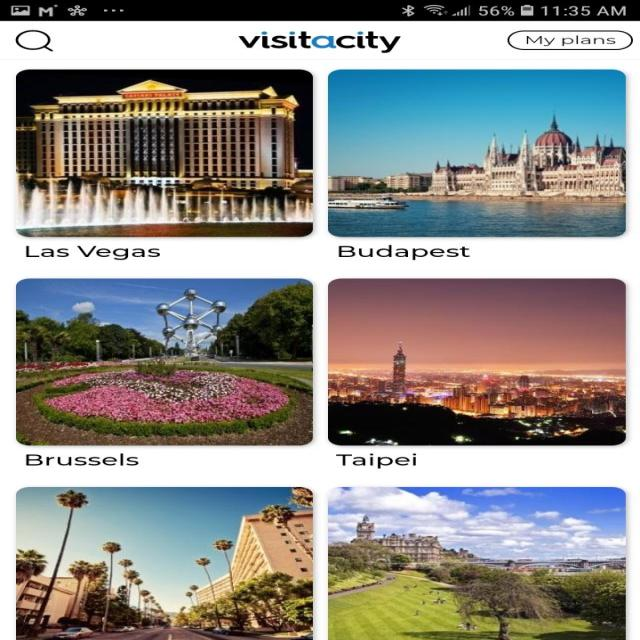Icon: (14, 29, 54, 52)
Image: (327, 69, 625, 237), (327, 278, 626, 445), (16, 69, 313, 237), (15, 278, 312, 445), (328, 486, 626, 640), (15, 486, 313, 639), (237, 31, 401, 53)
Text: (338, 244, 470, 260), (25, 246, 160, 260), (25, 452, 139, 466), (335, 453, 416, 469)
TextButton: (506, 30, 633, 50)
